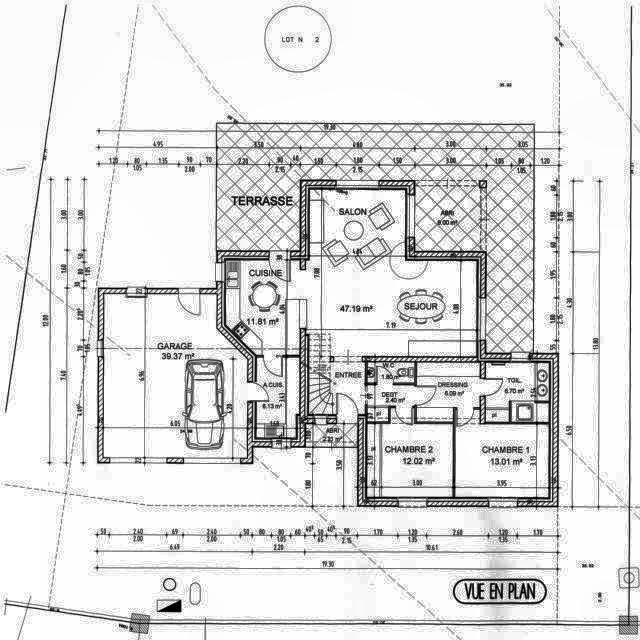room: (225, 189, 477, 356), (103, 294, 248, 458), (455, 409, 549, 498), (366, 409, 453, 497), (306, 334, 365, 413), (416, 362, 480, 423), (486, 363, 549, 422), (255, 358, 299, 438), (368, 385, 415, 406), (368, 362, 415, 382)
